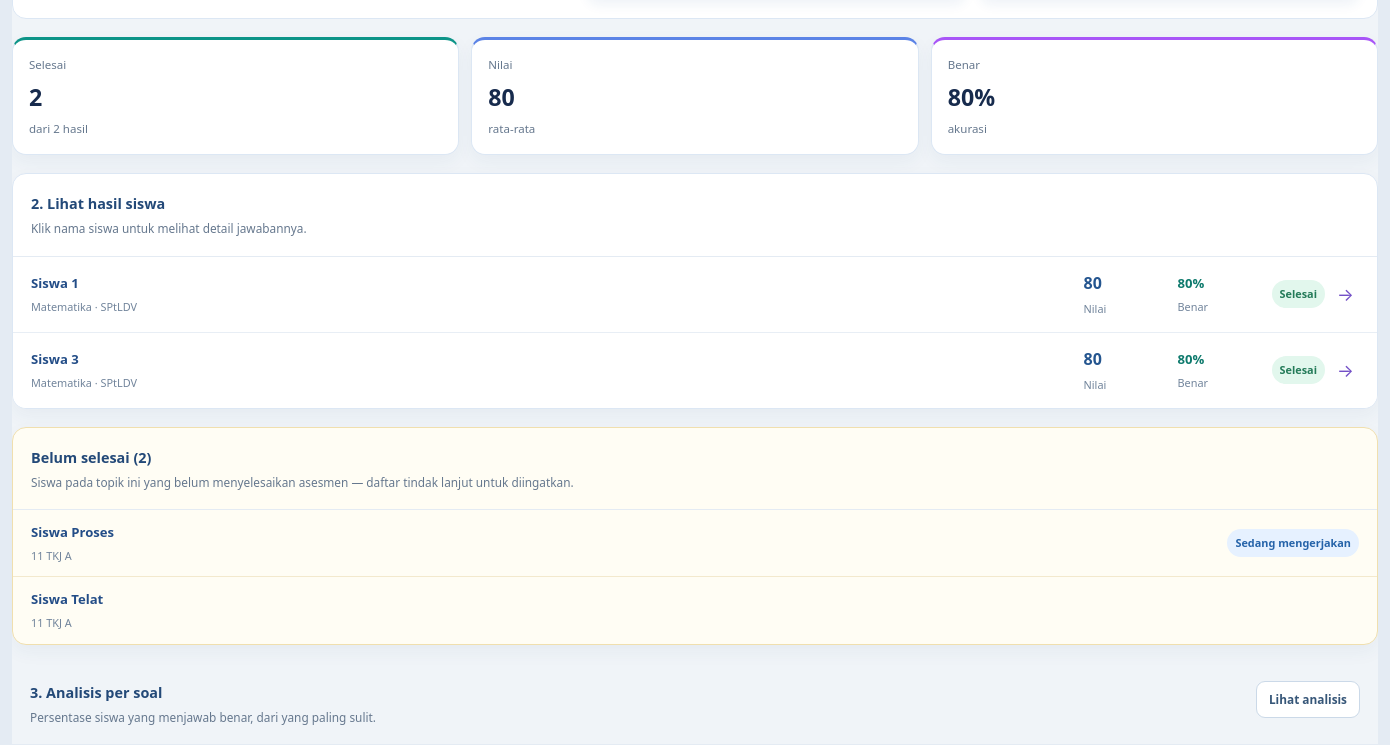
Test: ReportsPanel › simple: hasil siswa tampil sebelum analisis, analisis terlipat sampai dibuka
This screenshot has width=1390, height=745.
(page scrolled)
expect the element with class "simple-report-results" shows "2. Lihat hasil siswa": met, box [31, 194, 165, 213]
expect the element with class "simple-question-stats" shows "3. Analisis per soal": met, box [30, 683, 162, 702]
What coordinates should you click on to do the following:
click the button with class "simple-analysis-toggle"
I would click on:
 (1308, 699)
Its box is [1256, 681, 1360, 718].
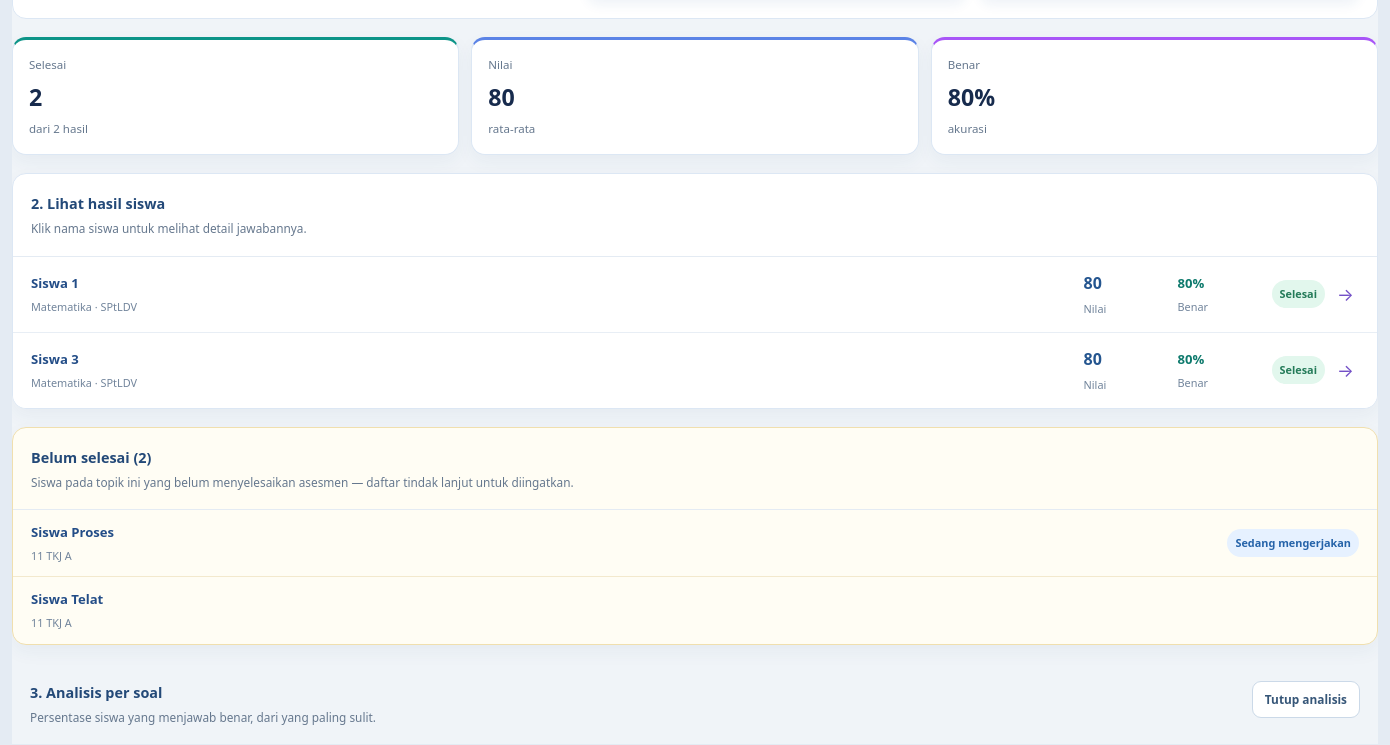
expect the button with class "simple-analysis-toggle" reads "Tutup analisis": met, box [1252, 681, 1360, 718]
expect the button with class "simple-analysis-toggle" is expanded: met, box [1252, 681, 1360, 718]
